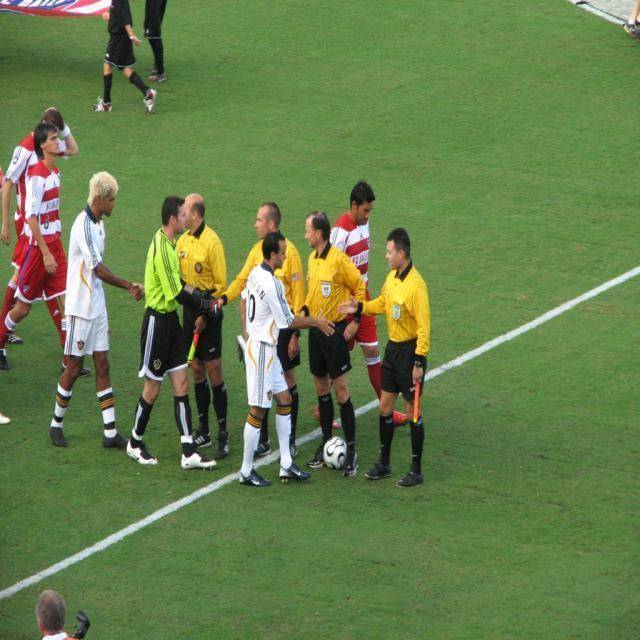ball: (325, 435, 348, 468)
